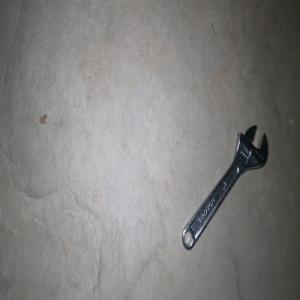Wrench: (181, 124, 268, 250)
